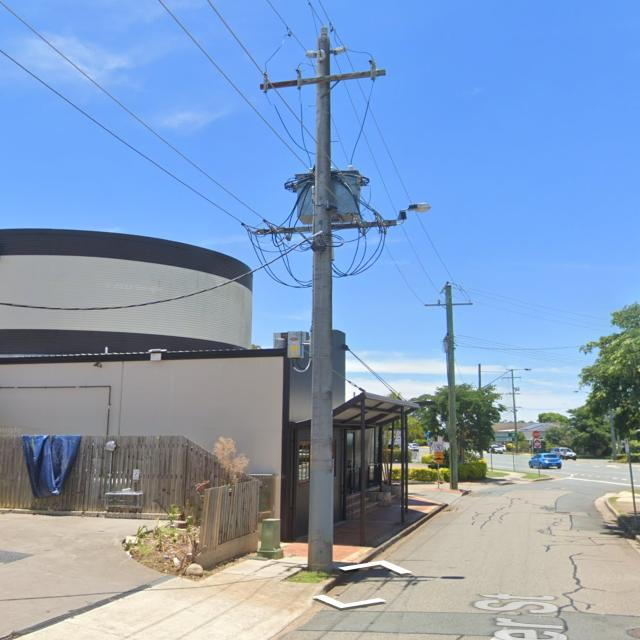HV-transmission: (259, 26, 386, 96), (424, 281, 474, 309)
concrete-pole: (306, 37, 335, 571)
crossarm: (258, 68, 387, 90), (252, 220, 398, 238), (424, 302, 474, 306), (440, 281, 450, 294), (505, 392, 521, 396), (502, 376, 521, 379), (506, 406, 522, 409)
streetlight: (480, 368, 532, 389), (397, 202, 431, 225)
timber-pole: (445, 286, 459, 490), (511, 368, 518, 454)
transformer: (294, 168, 358, 220)
